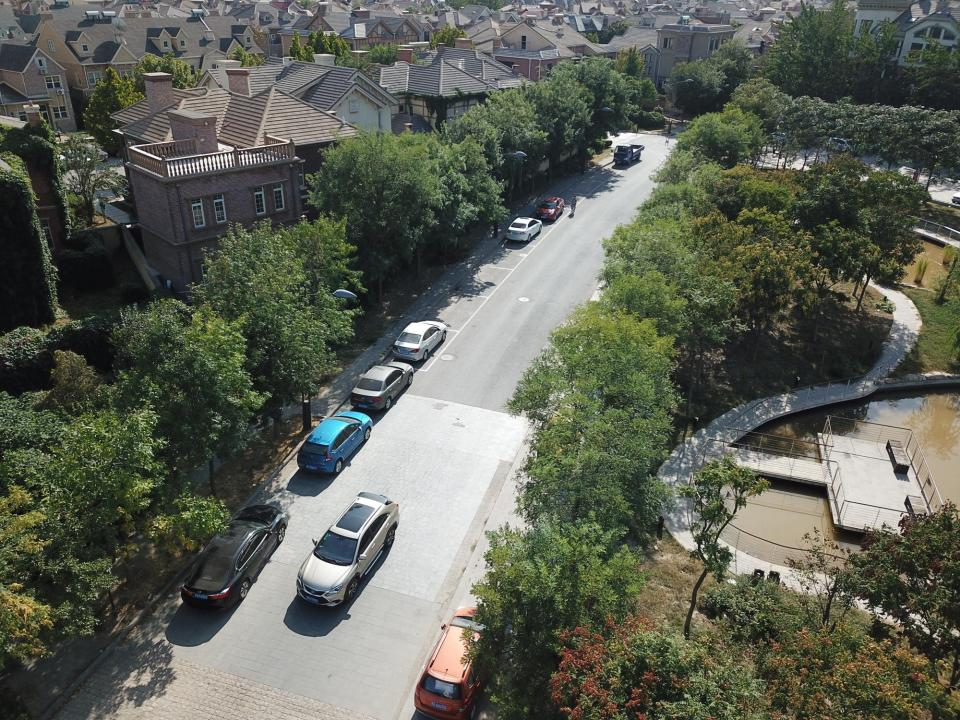car: (295, 491, 400, 606), (180, 504, 289, 611), (414, 606, 509, 720), (296, 411, 373, 475), (349, 360, 414, 410), (392, 320, 447, 362), (505, 216, 542, 242), (535, 197, 564, 222), (824, 136, 858, 154), (769, 131, 797, 148)
truck: (611, 143, 645, 165)
